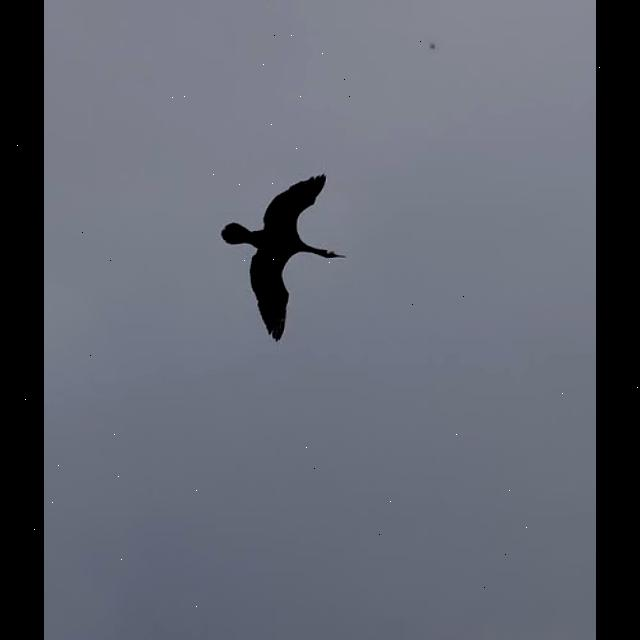cormorant: (214, 176, 366, 334)
